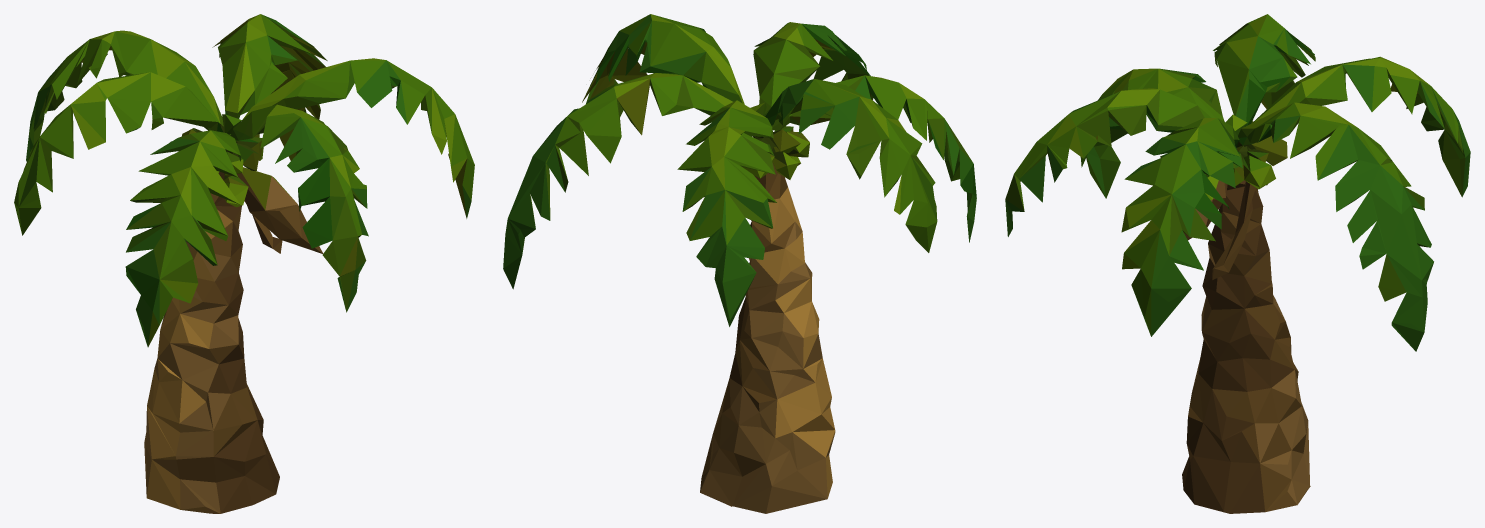
The model's file is palm-c.glb.
The picture shows the model from 3 angles, left to right: view 1: azimuth 30°, elevation 25°; view 2: azimuth 150°, elevation 25°; view 3: azimuth 270°, elevation 25°; orthographic projection.
Visible parts, largest first — view 1: palm-c; view 2: palm-c; view 3: palm-c.
Boxes of the visible parts, x1,y1,x2,y2 form: palm-c: (14,14,474,513); palm-c: (503,14,976,513); palm-c: (1005,14,1470,513).
Bounding box in the file's own units: 3.36 × 3.4 × 3.39.
